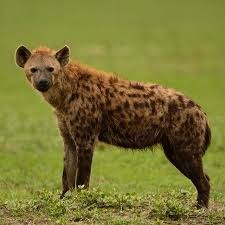hyna: (13, 40, 215, 211)
